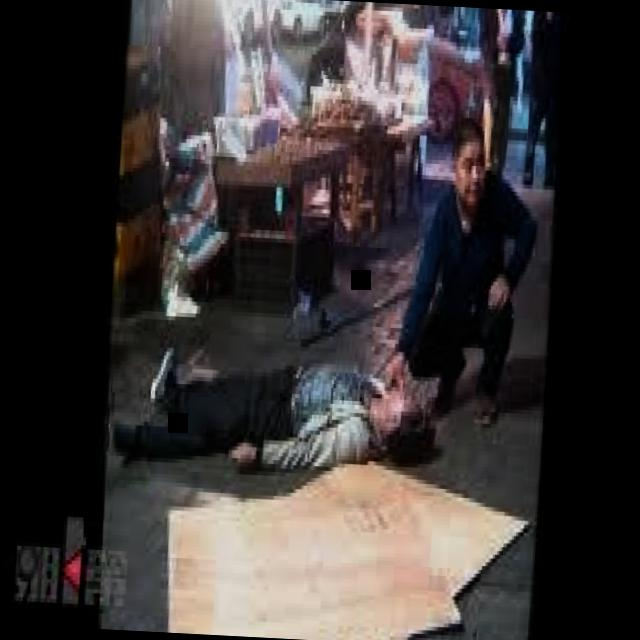Fall-Detected: (114, 302, 450, 492)
